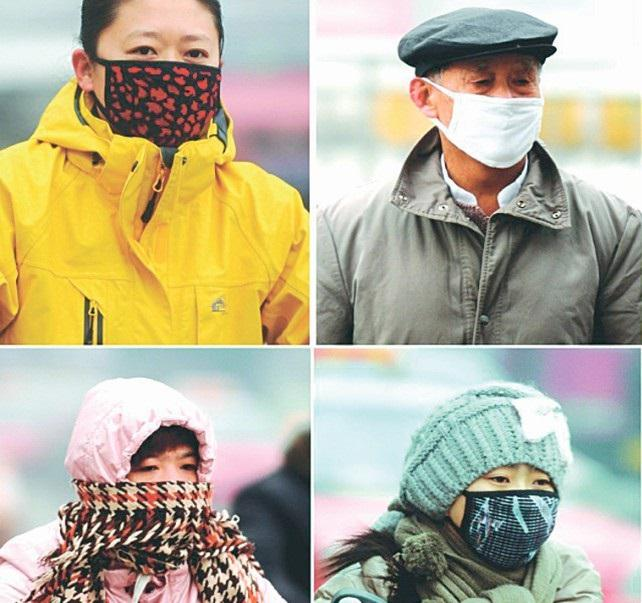OK: (455, 449, 570, 564), (106, 25, 219, 138), (441, 61, 547, 167), (114, 442, 212, 551)
